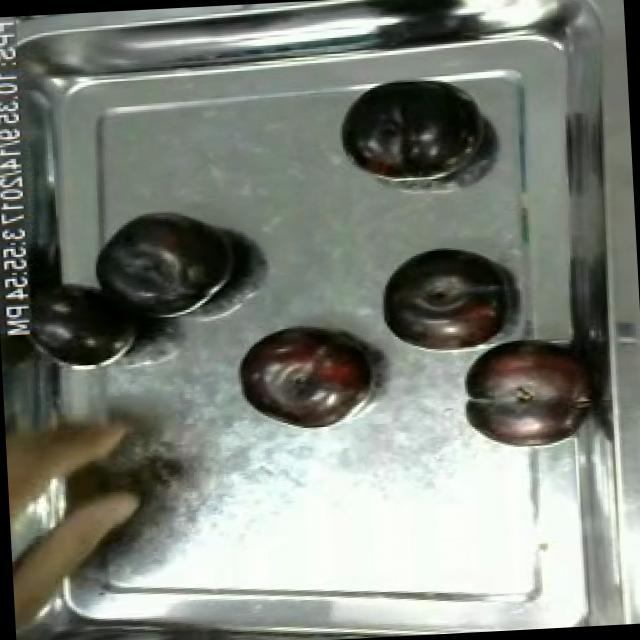Fruit: (86, 202, 250, 324), (230, 314, 386, 432), (452, 332, 602, 452), (332, 72, 483, 186), (374, 242, 511, 357)
